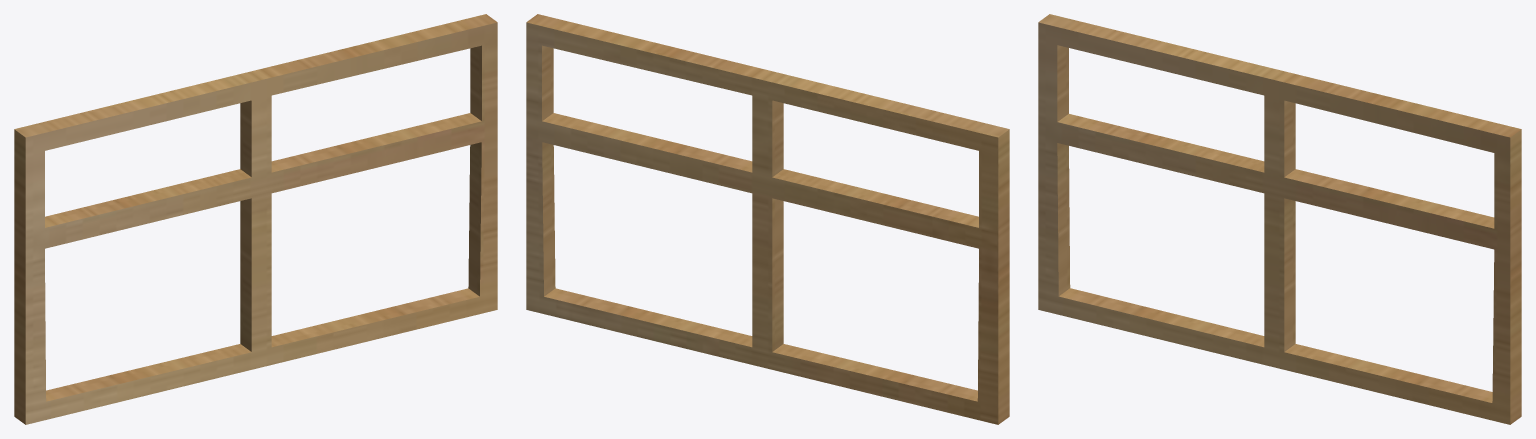
The model's file is Window.fbx.
3 renders of one model, left to right at view 1: azimuth 30°, elevation 25°; view 2: azimuth 150°, elevation 25°; view 3: azimuth 330°, elevation 25°, orthographic.
Parts seen in each view (by area): view 1: WIndow; view 2: WIndow; view 3: WIndow.
Part boxes in pixels (left/top/right/bottom): WIndow: left=14, top=14, right=497, bottom=424; WIndow: left=526, top=14, right=1009, bottom=424; WIndow: left=1038, top=14, right=1521, bottom=424.
Bounding box in the file's own units: 0.0623 × 0.0363 × 0.00263.
